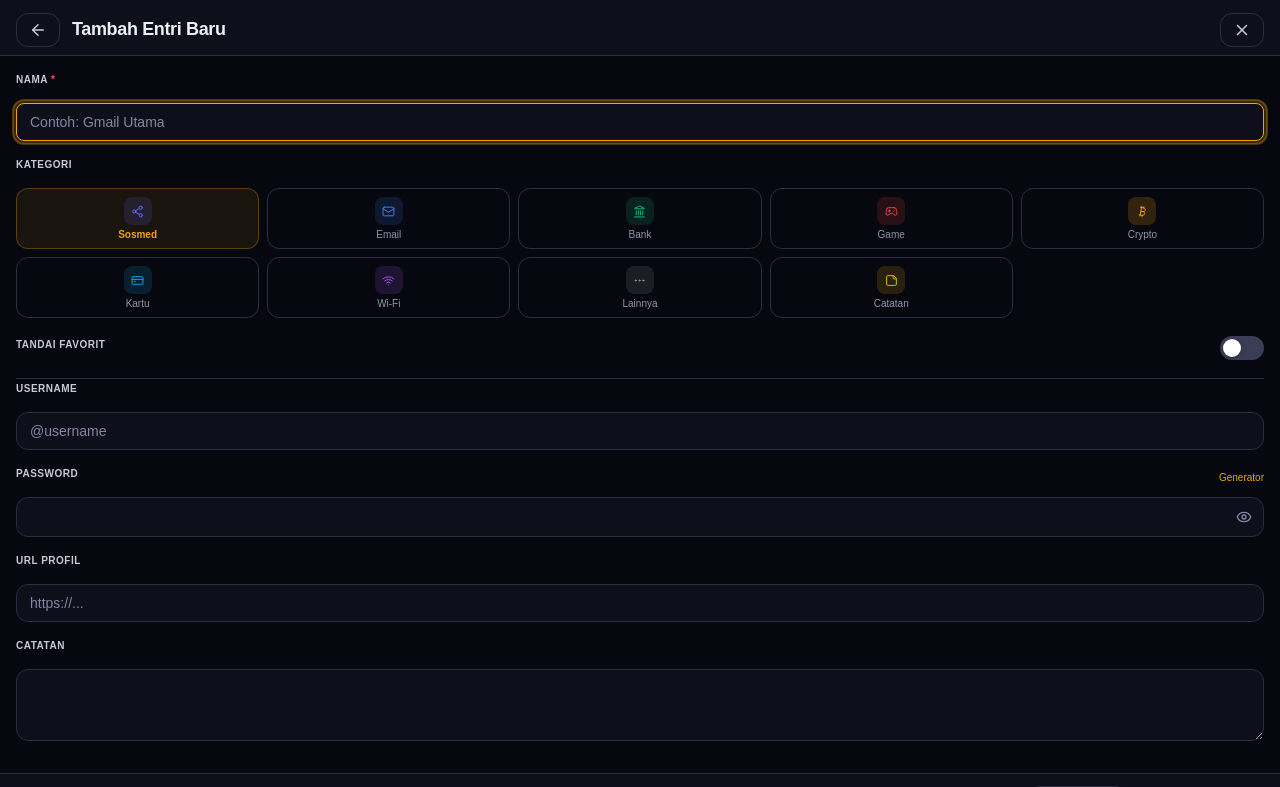
Test: EntryForm — Verifikasi 2 Langkah kategori Email (v1.10.0) › beralih ke mode Teks lalu kembali ke Per Kode mempertahankan isi kode
Click the button titled "Email" at (389, 218), box [267,188,510,249]
(page scrolled)
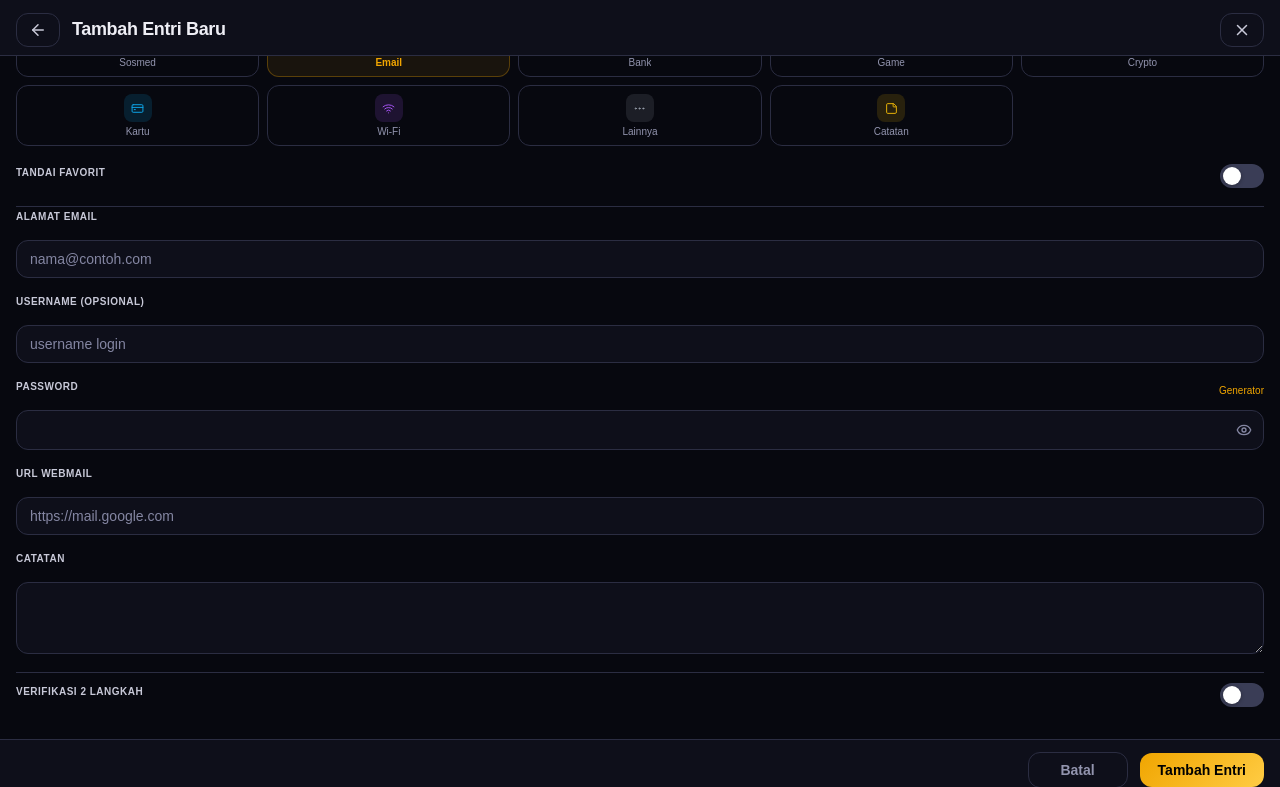
Click the switch named "Verifikasi 2 Langkah" at (1242, 695), box [1220,683,1264,707]
(page scrolled)
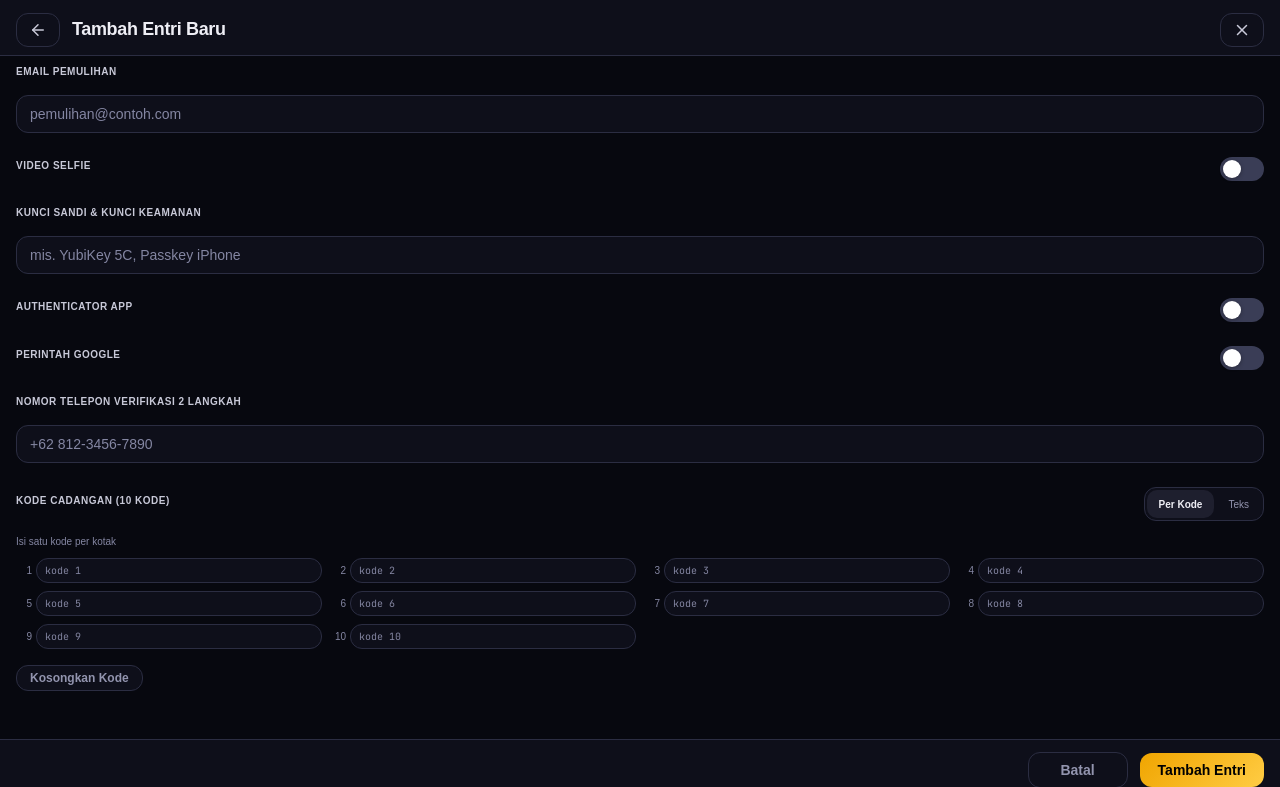
Type "KODE-SATU" into the field with placeholder "kode 1" at (179, 570), box [36,558,322,583]
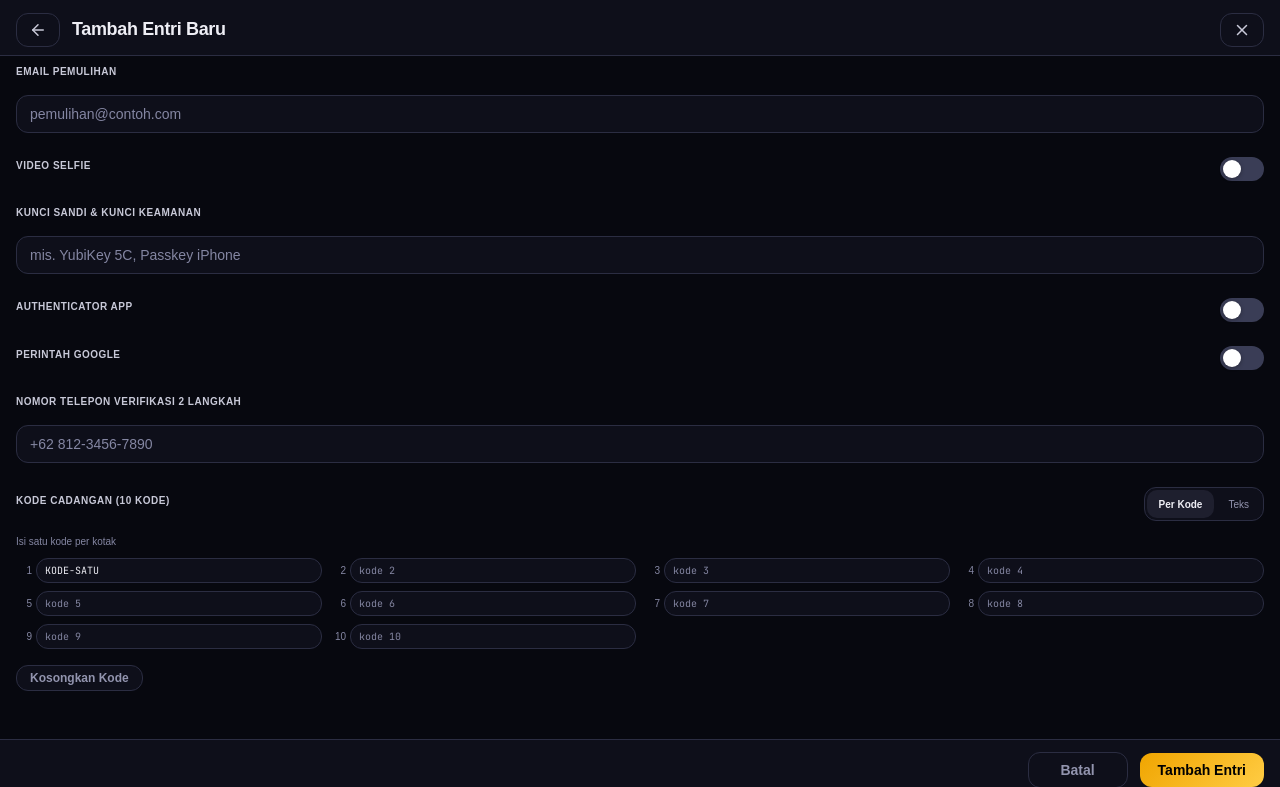
Type "KODE-DUA" into the field with placeholder "kode 2" at (493, 570), box [350,558,636,583]
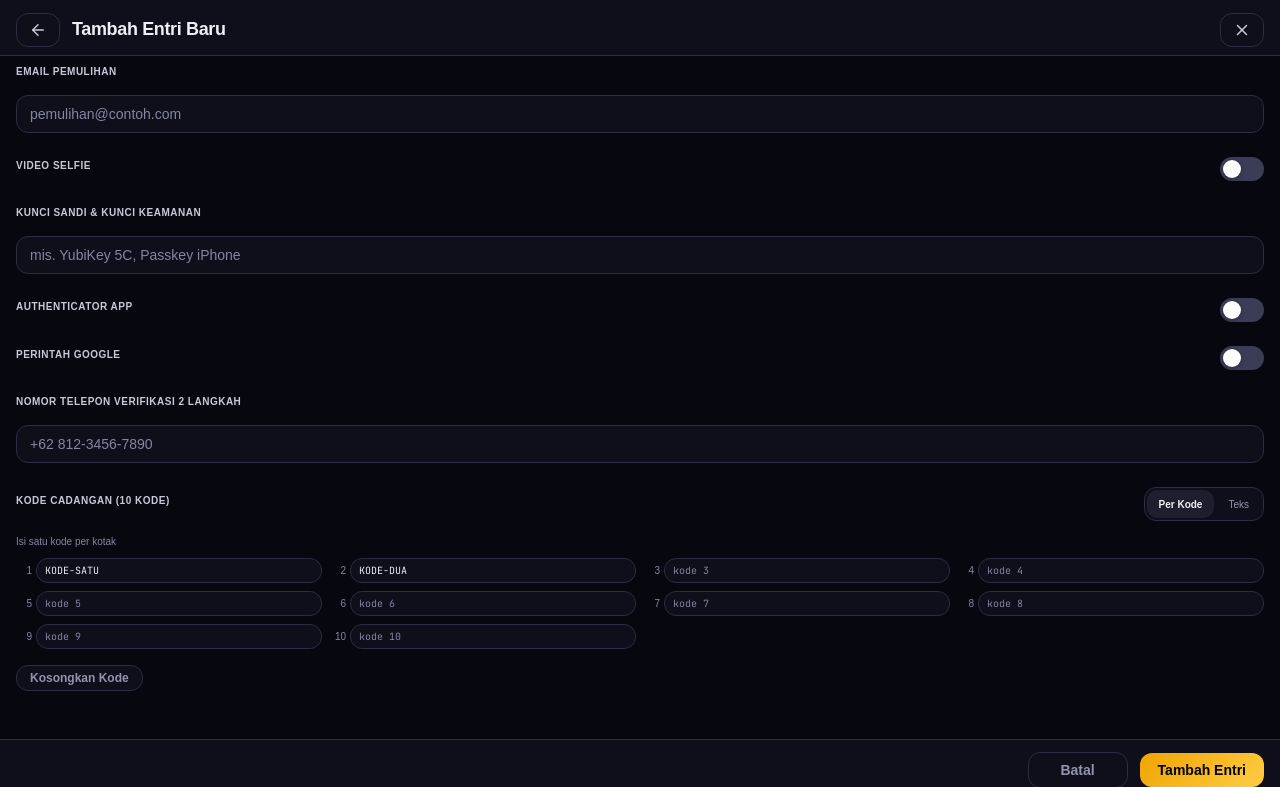
Click the button "Teks" at (1239, 504), box [1216,490,1261,518]
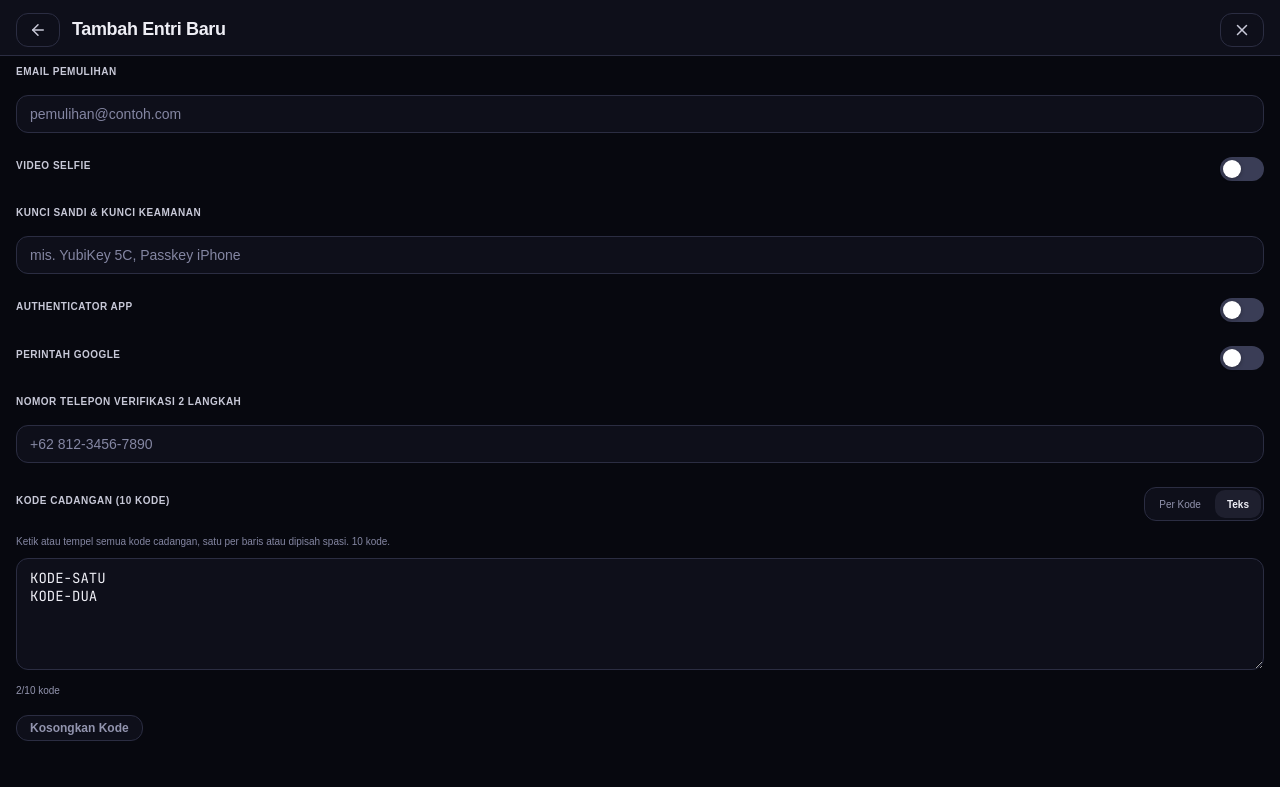
Click the button "Per Kode" at (1180, 504), box [1147,490,1213,518]
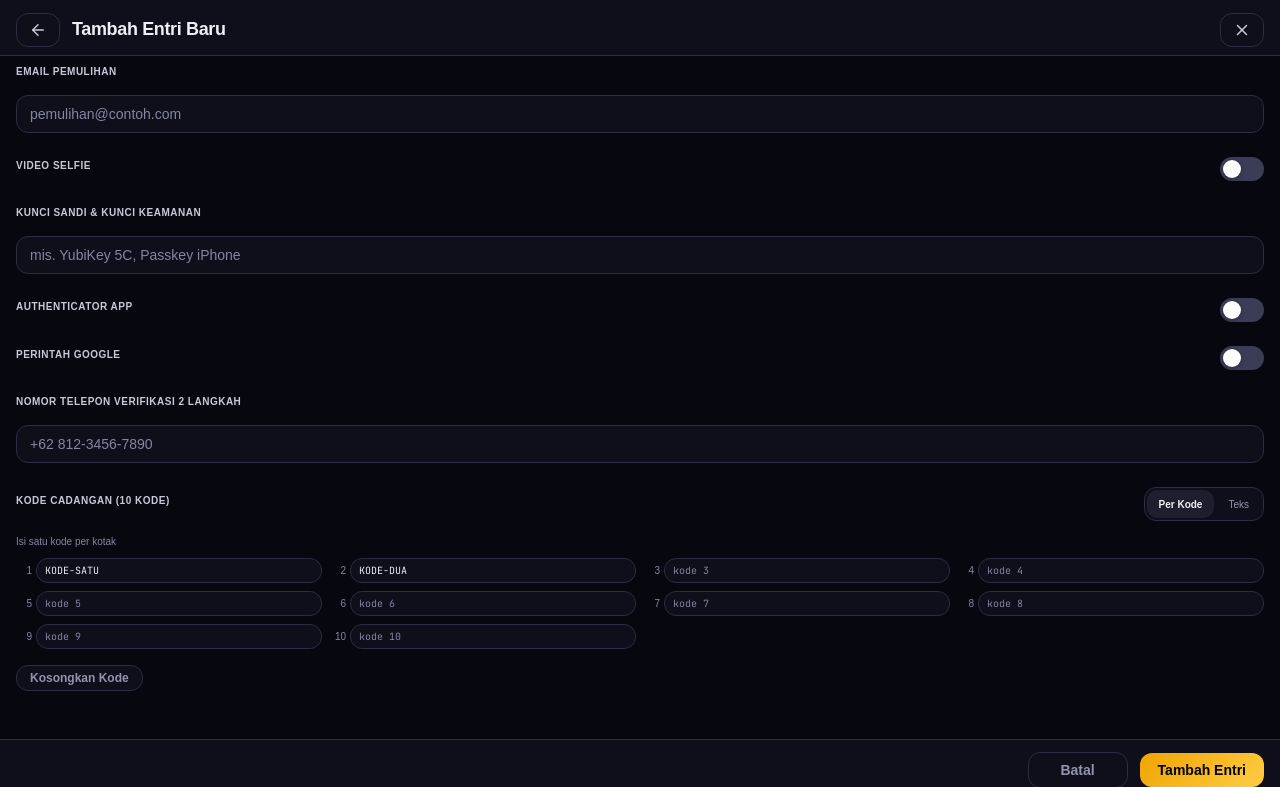
Check: the 1st field with placeholder "kode 1" holds "KODE-SATU", box [36,558,322,583]
Check: the 2nd field with placeholder "kode 2" holds "KODE-DUA", box [350,558,636,583]
